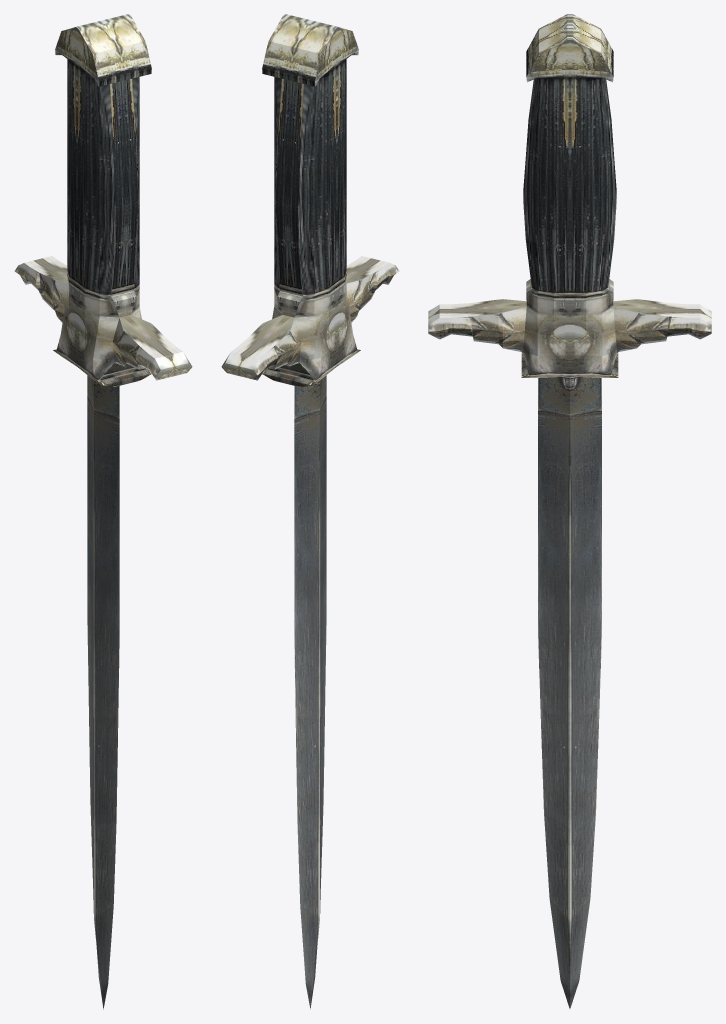
Rendered from DAGGER.glb.
3 views of the same model, side by side, from view 1: azimuth 30°, elevation 25°; view 2: azimuth 150°, elevation 25°; view 3: azimuth 270°, elevation 25° (orthographic).
Visible parts, largest first — view 1: Cube; view 2: Cube; view 3: Cube.
Boxes of the visible parts, bbox=[...] form: Cube: bbox=[14, 14, 192, 1009]; Cube: bbox=[221, 14, 399, 1009]; Cube: bbox=[428, 14, 711, 1008].
Size of the model in its own units: 0.1038 by 1.85 by 0.4841.
Materials: 1 (1 with a texture image).
